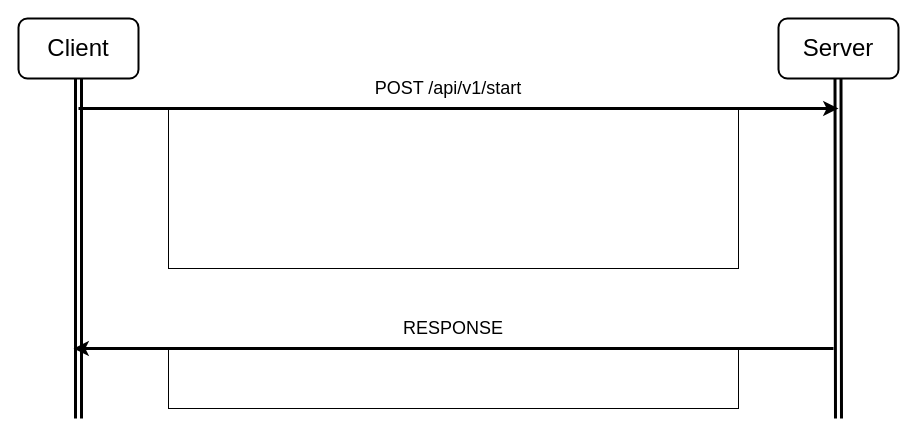
The diagram is 916 pixels wide and 437 high, and some of its shapes have lost their labels. The centre of each missing label's shape, as x and y in pixels:
{ "id": string UUID }: pixel 453 378
{ "k": int, "blue": int, "red": int, "graph": string, "algorithm": string }: pixel 453 188
